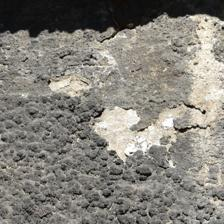Crack: (62, 22, 145, 74), (88, 32, 155, 66)
